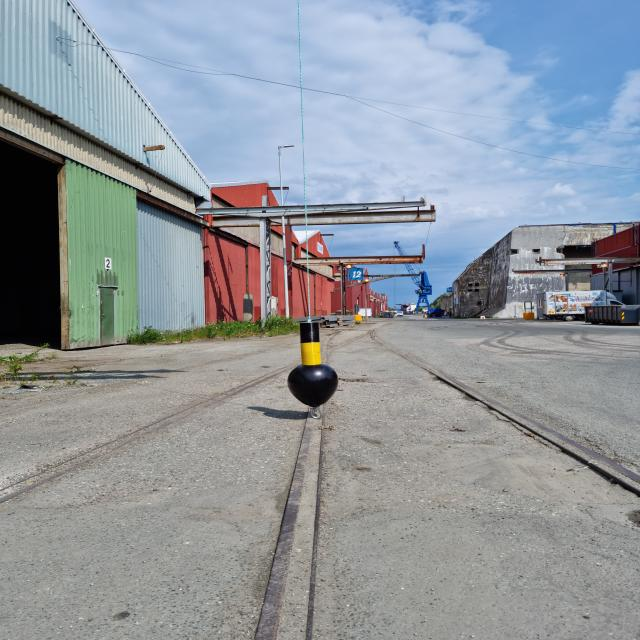east: (287, 321, 340, 408)
